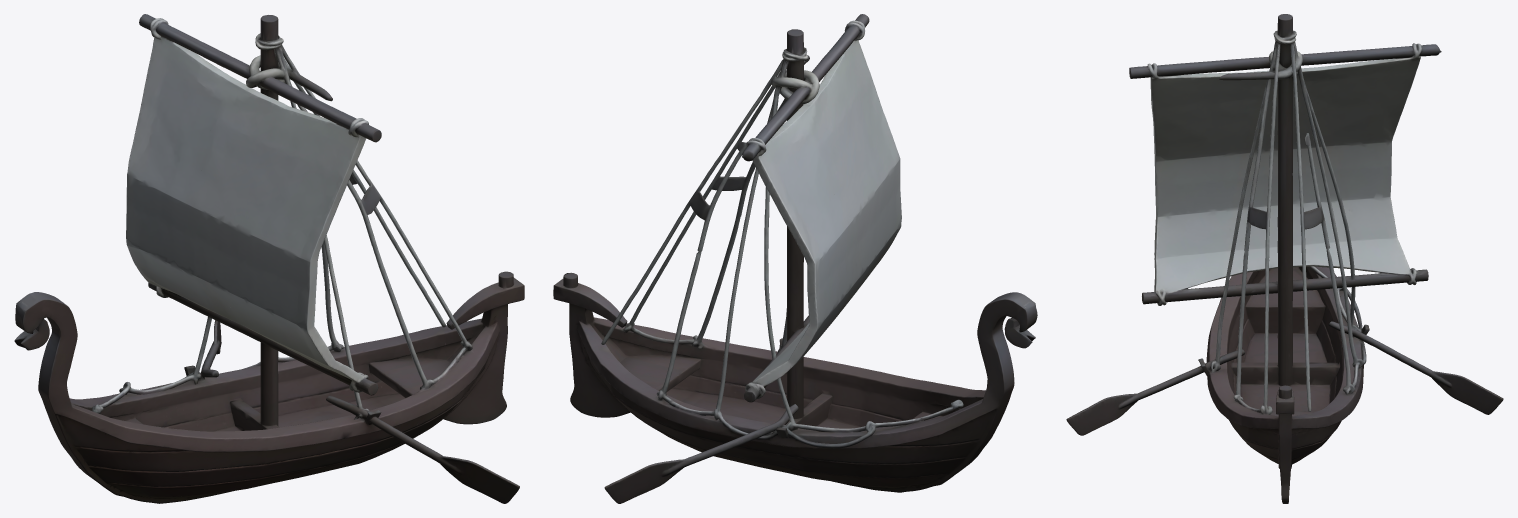
The model's file is 100%_ship.fbx.
3 renders of one model, left to right at view 1: azimuth 30°, elevation 25°; view 2: azimuth 150°, elevation 25°; view 3: azimuth 270°, elevation 25°, orthographic. The views are drawn at different scales.
Parts seen in each view (by area): view 1: tripo_node_e5085bc3-1d81-48e3-8d56-fad9ad563dfb; view 2: tripo_node_e5085bc3-1d81-48e3-8d56-fad9ad563dfb; view 3: tripo_node_e5085bc3-1d81-48e3-8d56-fad9ad563dfb.
Part boxes in pixels (<box>): tripo_node_e5085bc3-1d81-48e3-8d56-fad9ad563dfb: <box>14,14,524,503</box>; tripo_node_e5085bc3-1d81-48e3-8d56-fad9ad563dfb: <box>553,14,1037,503</box>; tripo_node_e5085bc3-1d81-48e3-8d56-fad9ad563dfb: <box>1066,14,1503,503</box>.
Size of the model in its own units: 1 by 0.8774 by 0.8723.
